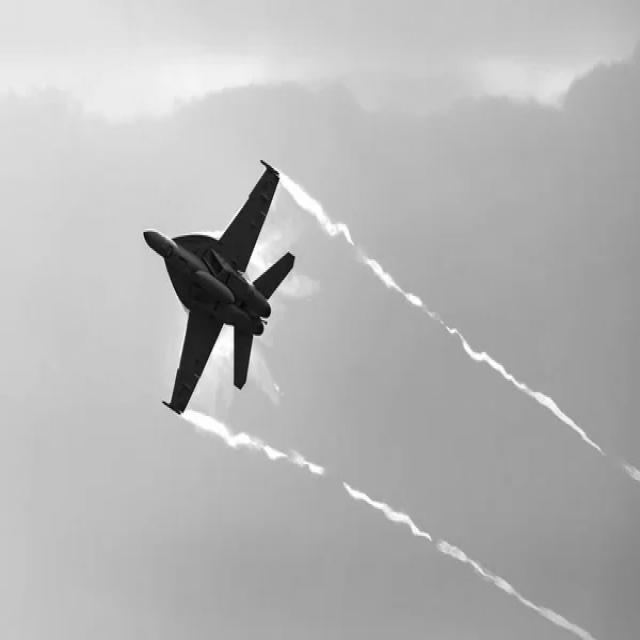Aircraft: (134, 155, 300, 422)
